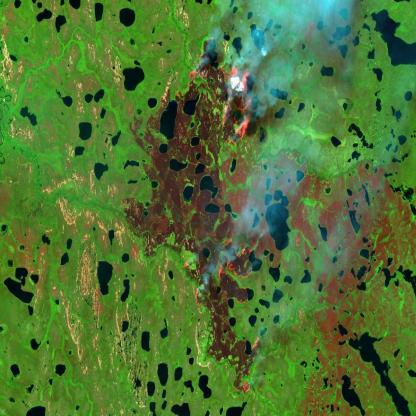fire: (182, 246, 264, 400), (183, 42, 258, 158)
